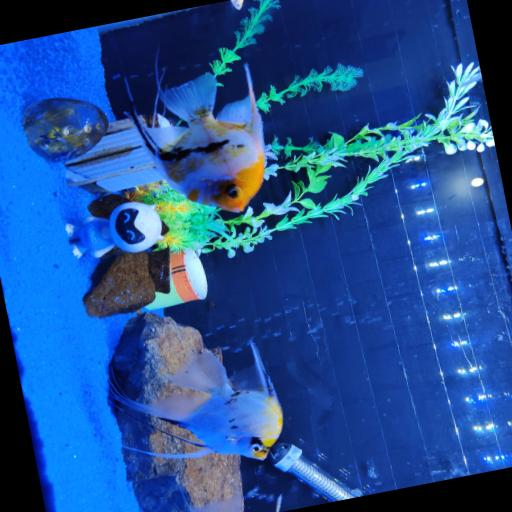Fish: (110, 341, 282, 460), (136, 65, 264, 212), (189, 496, 242, 511), (460, 73, 481, 85), (230, 0, 243, 10)
